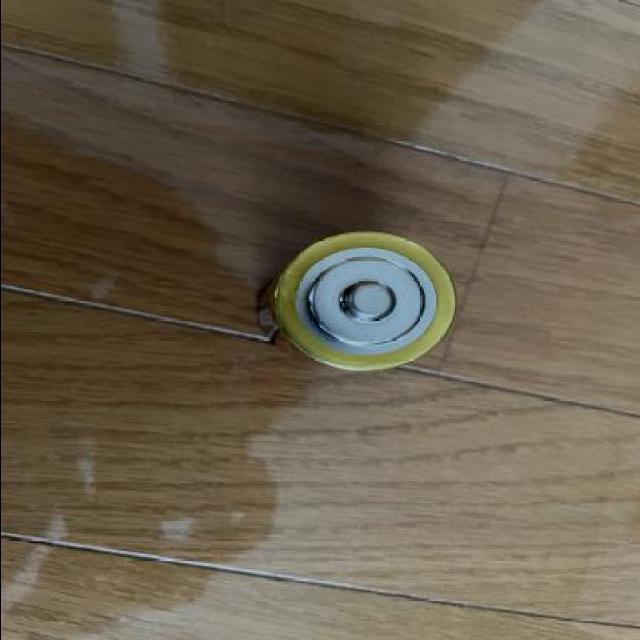AA: (252, 234, 460, 371)
